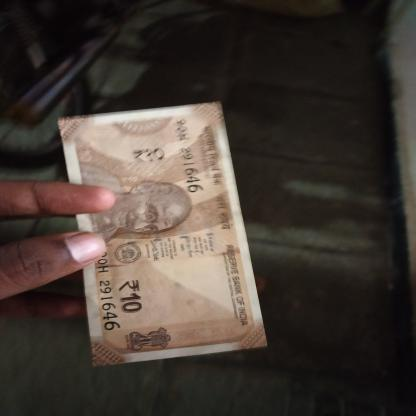New10Front: (58, 106, 260, 360)
